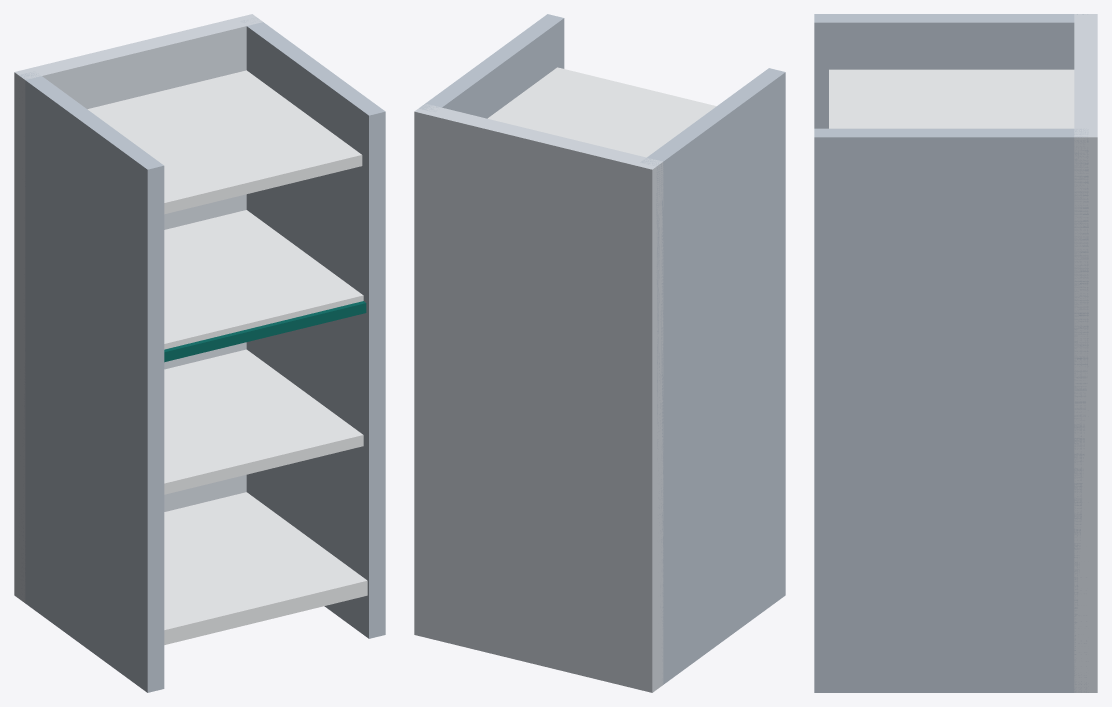
The model's file is shelf.glb.
The picture shows the model from 3 angles, left to right: view 1: azimuth 30°, elevation 25°; view 2: azimuth 150°, elevation 25°; view 3: azimuth 270°, elevation 25°; orthographic projection. The views are drawn at different scales.
Parts seen in each view (by area): view 1: Upright_Left, Upright_Right, Top_Shelf, Frame, Bottom_Shelf, Middle_Shelf_Lower, Middle_Shelf_Upper, Shelf_Labels; view 2: Frame, Upright_Left, Top_Shelf, Upright_Right; view 3: Upright_Right, Frame, Upright_Left, Top_Shelf.
Part boxes in pixels (x1,y1,x2,y2): Upright_Left: (19, 71, 164, 692); Upright_Right: (240, 17, 385, 638); Top_Shelf: (87, 70, 362, 214); Frame: (14, 14, 262, 602); Bottom_Shelf: (164, 492, 367, 644); Middle_Shelf_Lower: (164, 349, 363, 494); Middle_Shelf_Upper: (164, 210, 363, 349); Shelf_Labels: (164, 301, 366, 362); Frame: (414, 104, 663, 692); Upright_Left: (640, 68, 785, 684); Top_Shelf: (488, 67, 716, 157); Upright_Right: (419, 14, 564, 118); Upright_Right: (814, 128, 1088, 692); Frame: (1074, 14, 1097, 692); Upright_Left: (814, 14, 1087, 128); Top_Shelf: (829, 69, 1074, 128).
Bounding box in the file's own units: 1 × 2.1 × 0.97.
